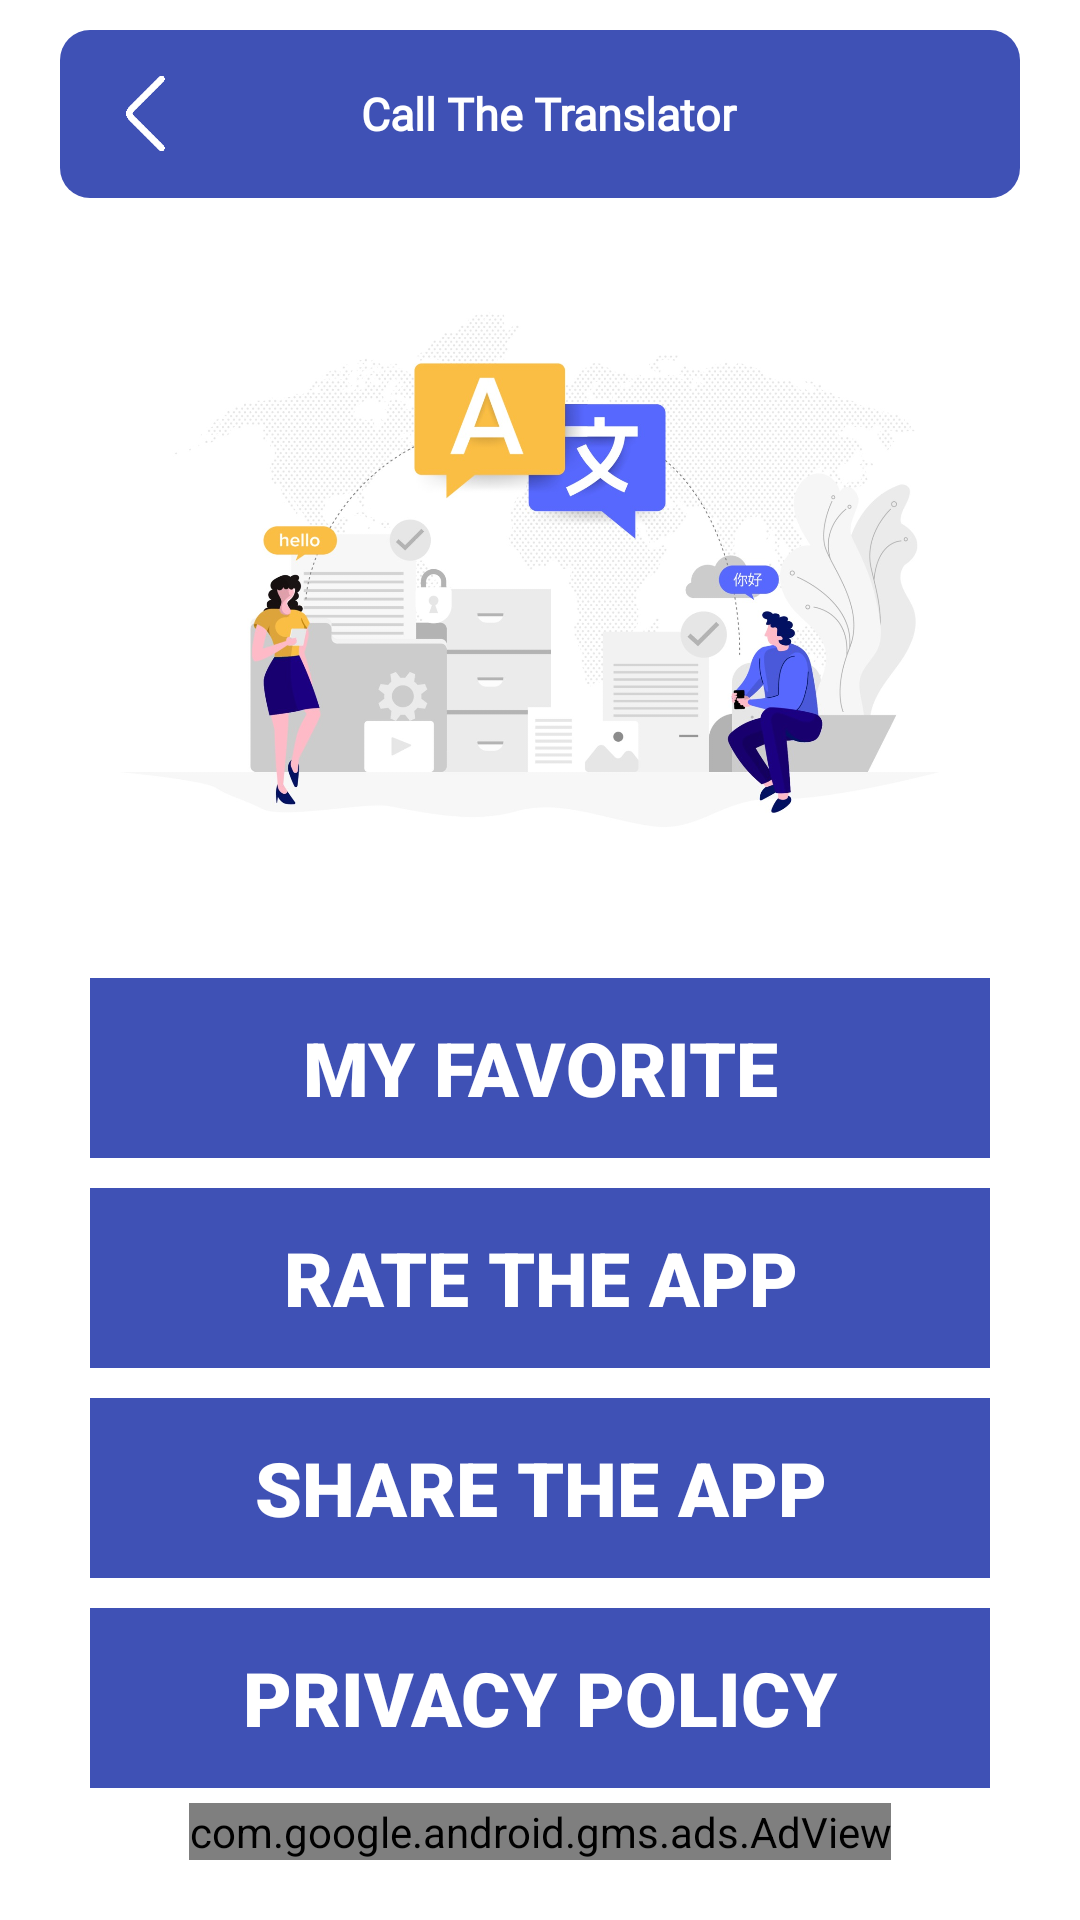

Named icons in this screenshot (1080w x 1920h) and their bounding boxes, (x1, y1, x2, y2):
back: (126, 76, 165, 151)
